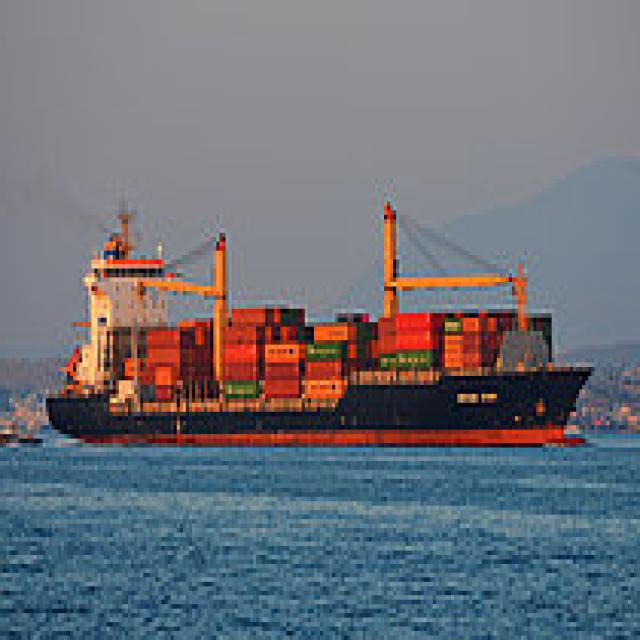Cargo: (46, 192, 603, 448)
